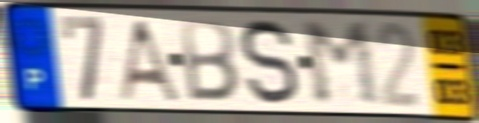2: (374, 19, 424, 111)
7: (57, 13, 108, 105)
A: (114, 17, 184, 104)
B: (178, 17, 242, 105)
M: (299, 20, 385, 109)
S: (236, 16, 302, 109)
